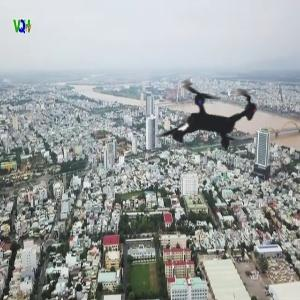drone: (133, 39, 289, 195)
